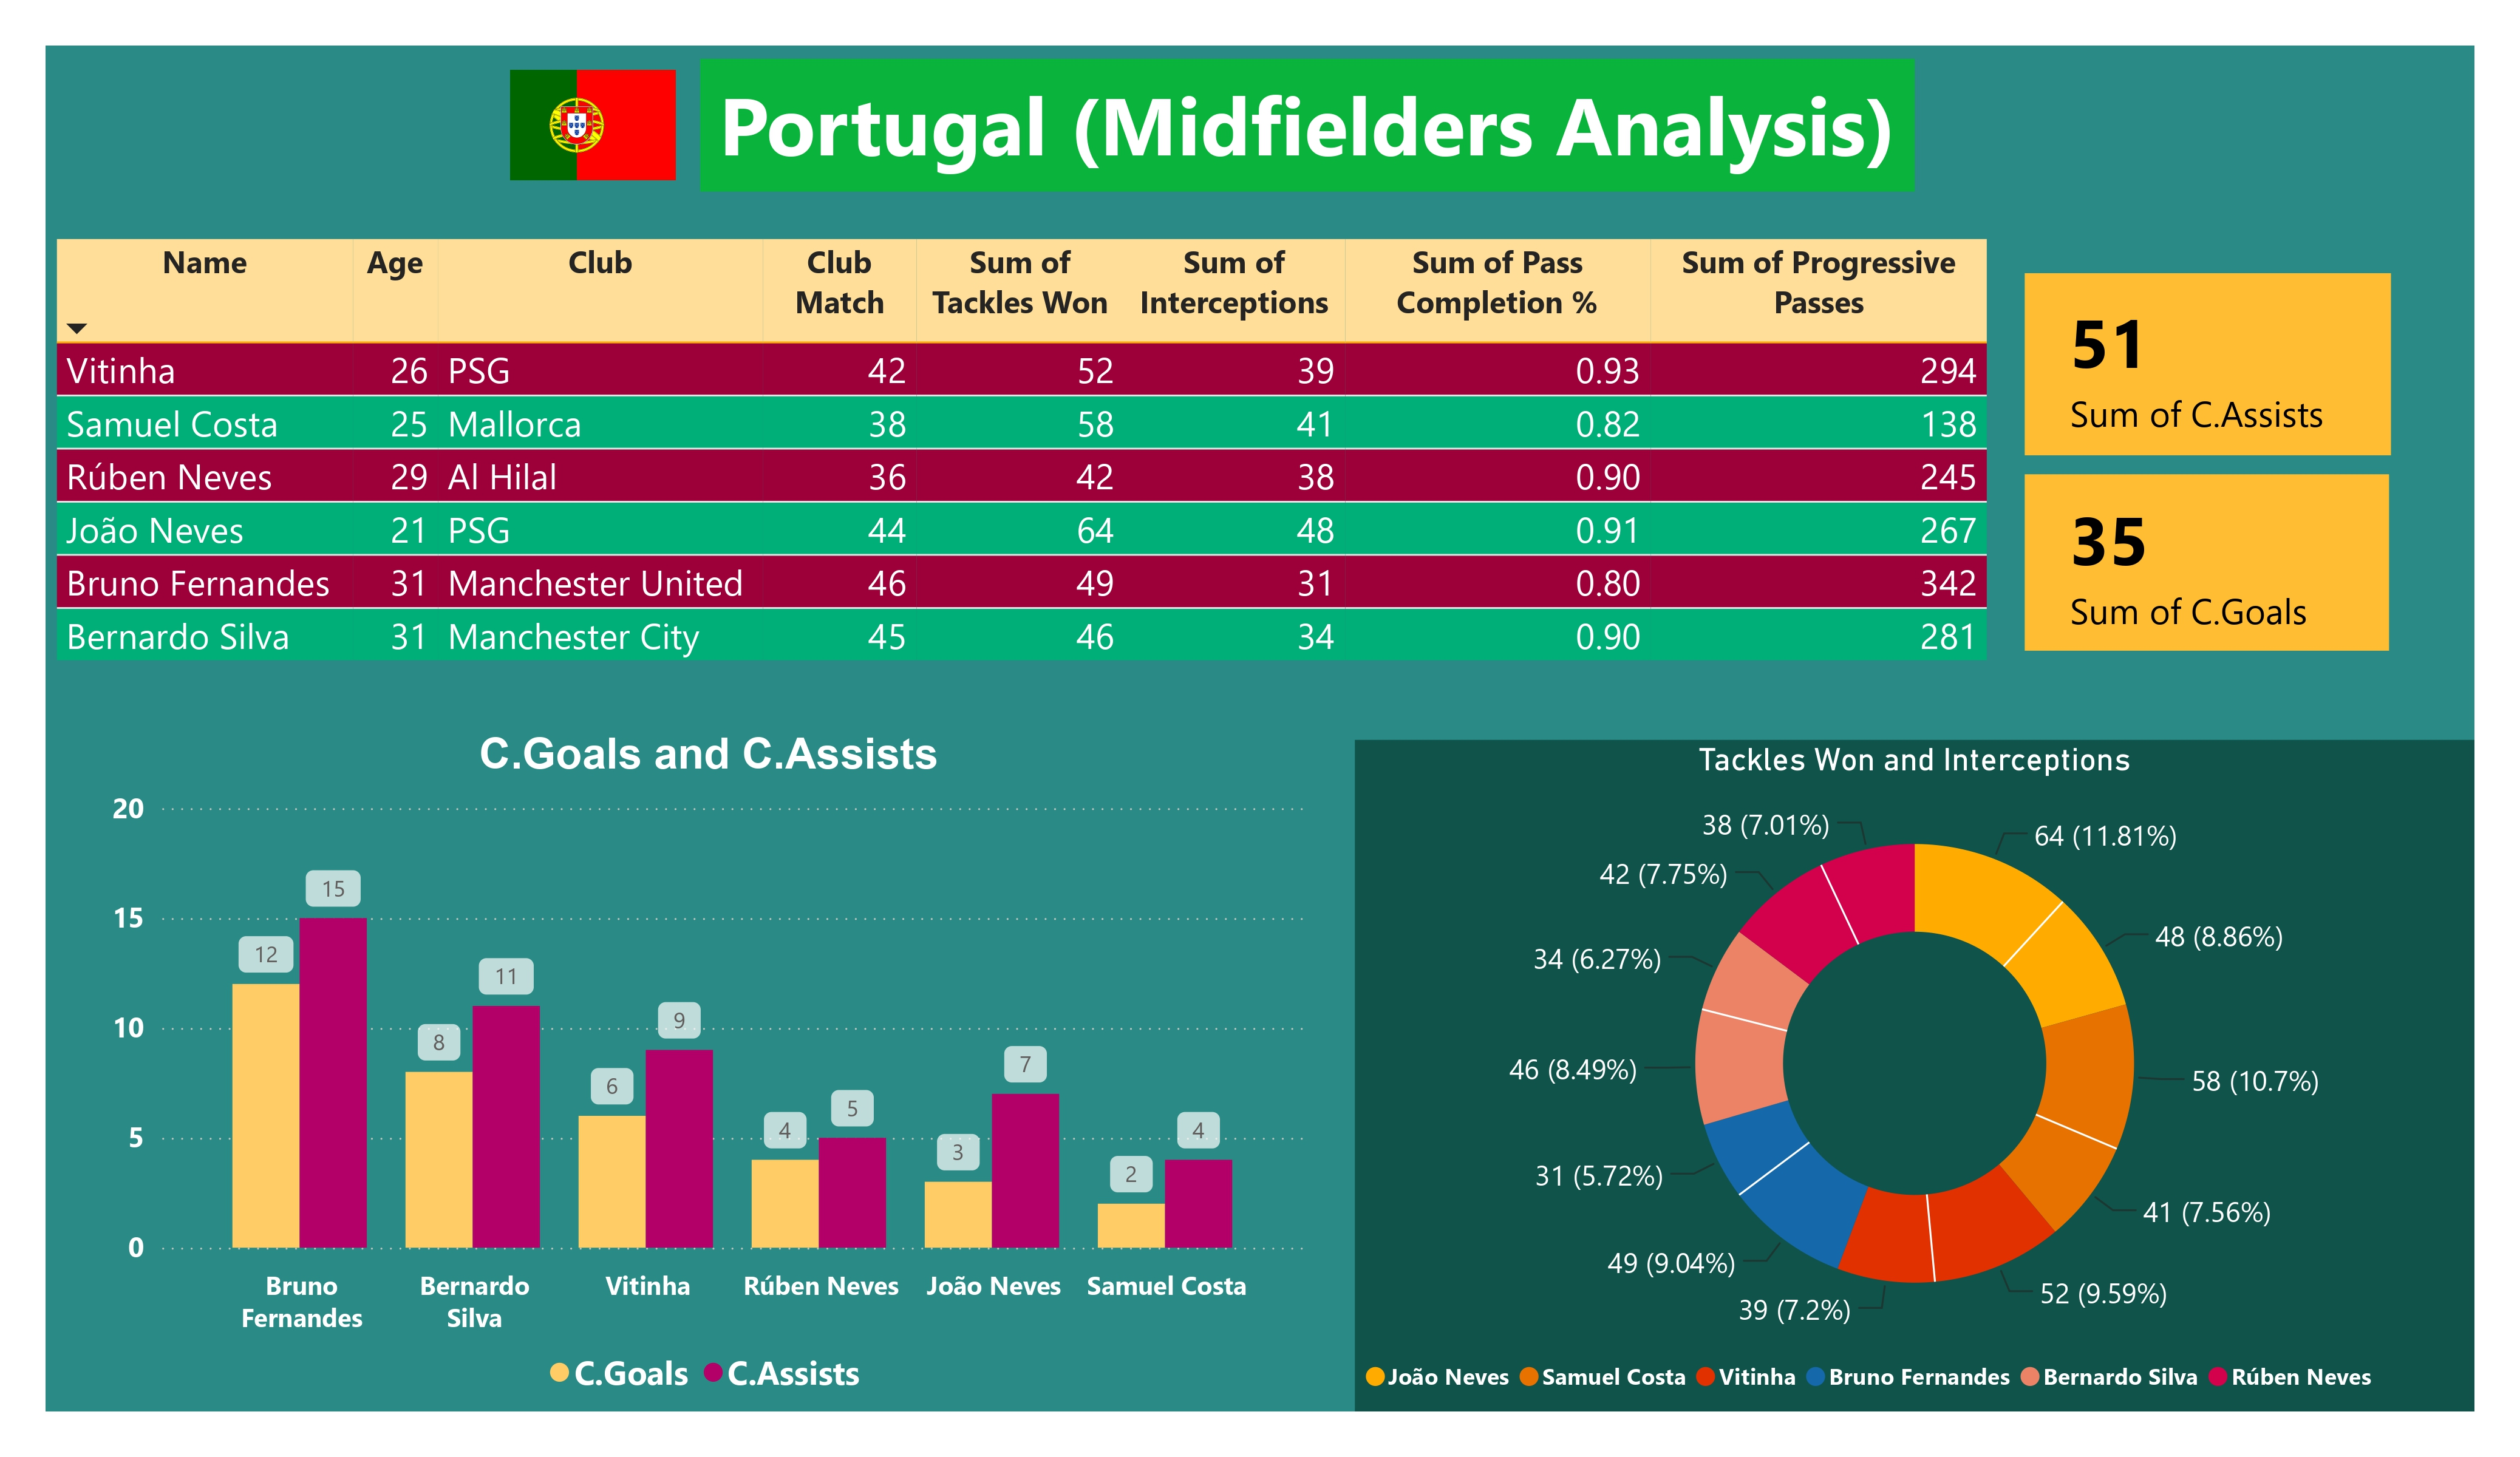

The page's visual inventory and layout, read from the dashboard file:
{"tool":"powerbi","page":{"name":"Midfilders","canvas":[1280,720],"ordinal":1},"visuals":[{"type":"slicer","fields":{"Values":["Sheet1.Position"]},"box":[995.9,522.4,246.5,181.2],"z":0},{"type":"lineClusteredColumnComboChart","title":"C.Goals and C.Assists","fields":{"Category":["Sheet1.Name"],"Y":["Sum(Sheet1.C.Goals)","Sum(Sheet1.C.Assists)"]},"box":[30.3,360.2,638.8,360.2],"z":1000},{"type":"cardVisual","fields":{"Data":["Sum(Sheet1.C.Goals)"]},"box":[1038.2,221.2,202,103],"z":2000},{"type":"cardVisual","fields":{"Data":["Sum(Sheet1.C.Assists)"]},"box":[1038.1,115.1,202.4,106.1],"z":3000},{"type":"donutChart","title":"Tackles Won and Interceptions ","fields":{"Category":["Sheet1.Name"],"Y":["Sum(Sheet1.Tackles Won)","Sum(Sheet1.Interceptions)"]},"box":[690.1,366,589.9,354.4],"z":4000},{"type":"tableEx","fields":{"Values":["Sheet1.Name","Sheet1.Age","Sheet1.Club","Sheet1.Club Match","Sum(Sheet1.Tackles Won)","Sum(Sheet1.Interceptions)","Sum(Sheet1.Pass Completion %)","Sum(Sheet1.Progressive Passes )"]},"box":[0,96.8,1038.7,247.1],"z":5000},{"type":"textbox","box":[345.1,6.8,640,69.9],"z":6000},{"type":"image","box":[232,12.7,113.1,58.3],"z":7000}]}

Visuals, with their boxes on the page's 1280x720 design canvas (x1, y1, x2, y2). These are canvas units, not pixel positions in the 2520x1457 screenshot, which may show the page scaled, cropped or inside an application window:
slicer - Sheet1.Position: [x1=996, y1=522, x2=1242, y2=704]
"C.Goals and C.Assists" lineClusteredColumnComboChart: [x1=30, y1=360, x2=669, y2=720]
cardVisual - Sum(Sheet1.C.Goals): [x1=1038, y1=221, x2=1240, y2=324]
cardVisual - Sum(Sheet1.C.Assists): [x1=1038, y1=115, x2=1240, y2=221]
"Tackles Won and Interceptions " donutChart: [x1=690, y1=366, x2=1280, y2=720]
tableEx - Sheet1.Name x Sheet1.Age: [x1=0, y1=97, x2=1039, y2=344]
textbox: [x1=345, y1=7, x2=985, y2=77]
image: [x1=232, y1=13, x2=345, y2=71]
